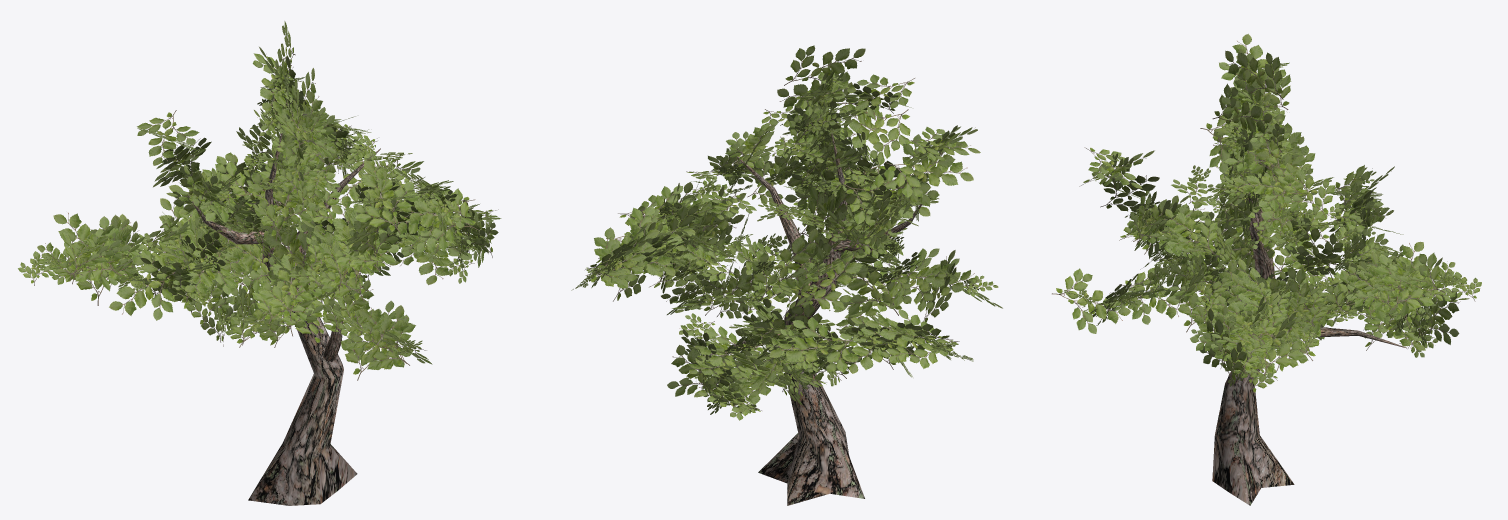
Rendered from tree_3.glb.
3 views of the same model, side by side, from view 1: azimuth 30°, elevation 25°; view 2: azimuth 150°, elevation 25°; view 3: azimuth 270°, elevation 25° (orthographic). The views are drawn at different scales.
Visible parts, largest first — view 1: node_id12, node_id9; view 2: node_id12, node_id9; view 3: node_id12, node_id9.
Boxes of the visible parts, x1,y1,x2,y2 form: node_id12: (18,21,501,380); node_id9: (187,129,380,505); node_id12: (571,45,1002,420); node_id9: (699,133,922,505); node_id12: (1052,33,1481,394); node_id9: (1212,183,1406,505).
Bounding box in the file's own units: 0.4451 × 0.4698 × 0.42.
2 materials, 2 textured.
